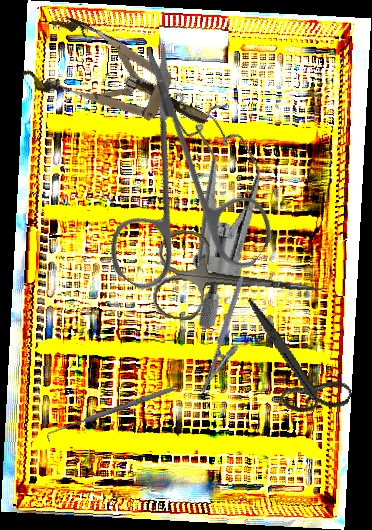Hook Surgical: (44, 384, 177, 443)
Iris Scissors: (32, 38, 328, 335), (217, 296, 371, 429), (150, 227, 331, 337)
Needle Holder: (199, 276, 261, 399)
Speculum: (96, 72, 319, 333), (18, 8, 223, 158)
